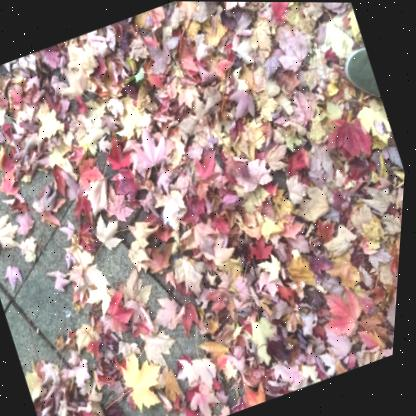Plastic: (161, 195, 186, 228)
